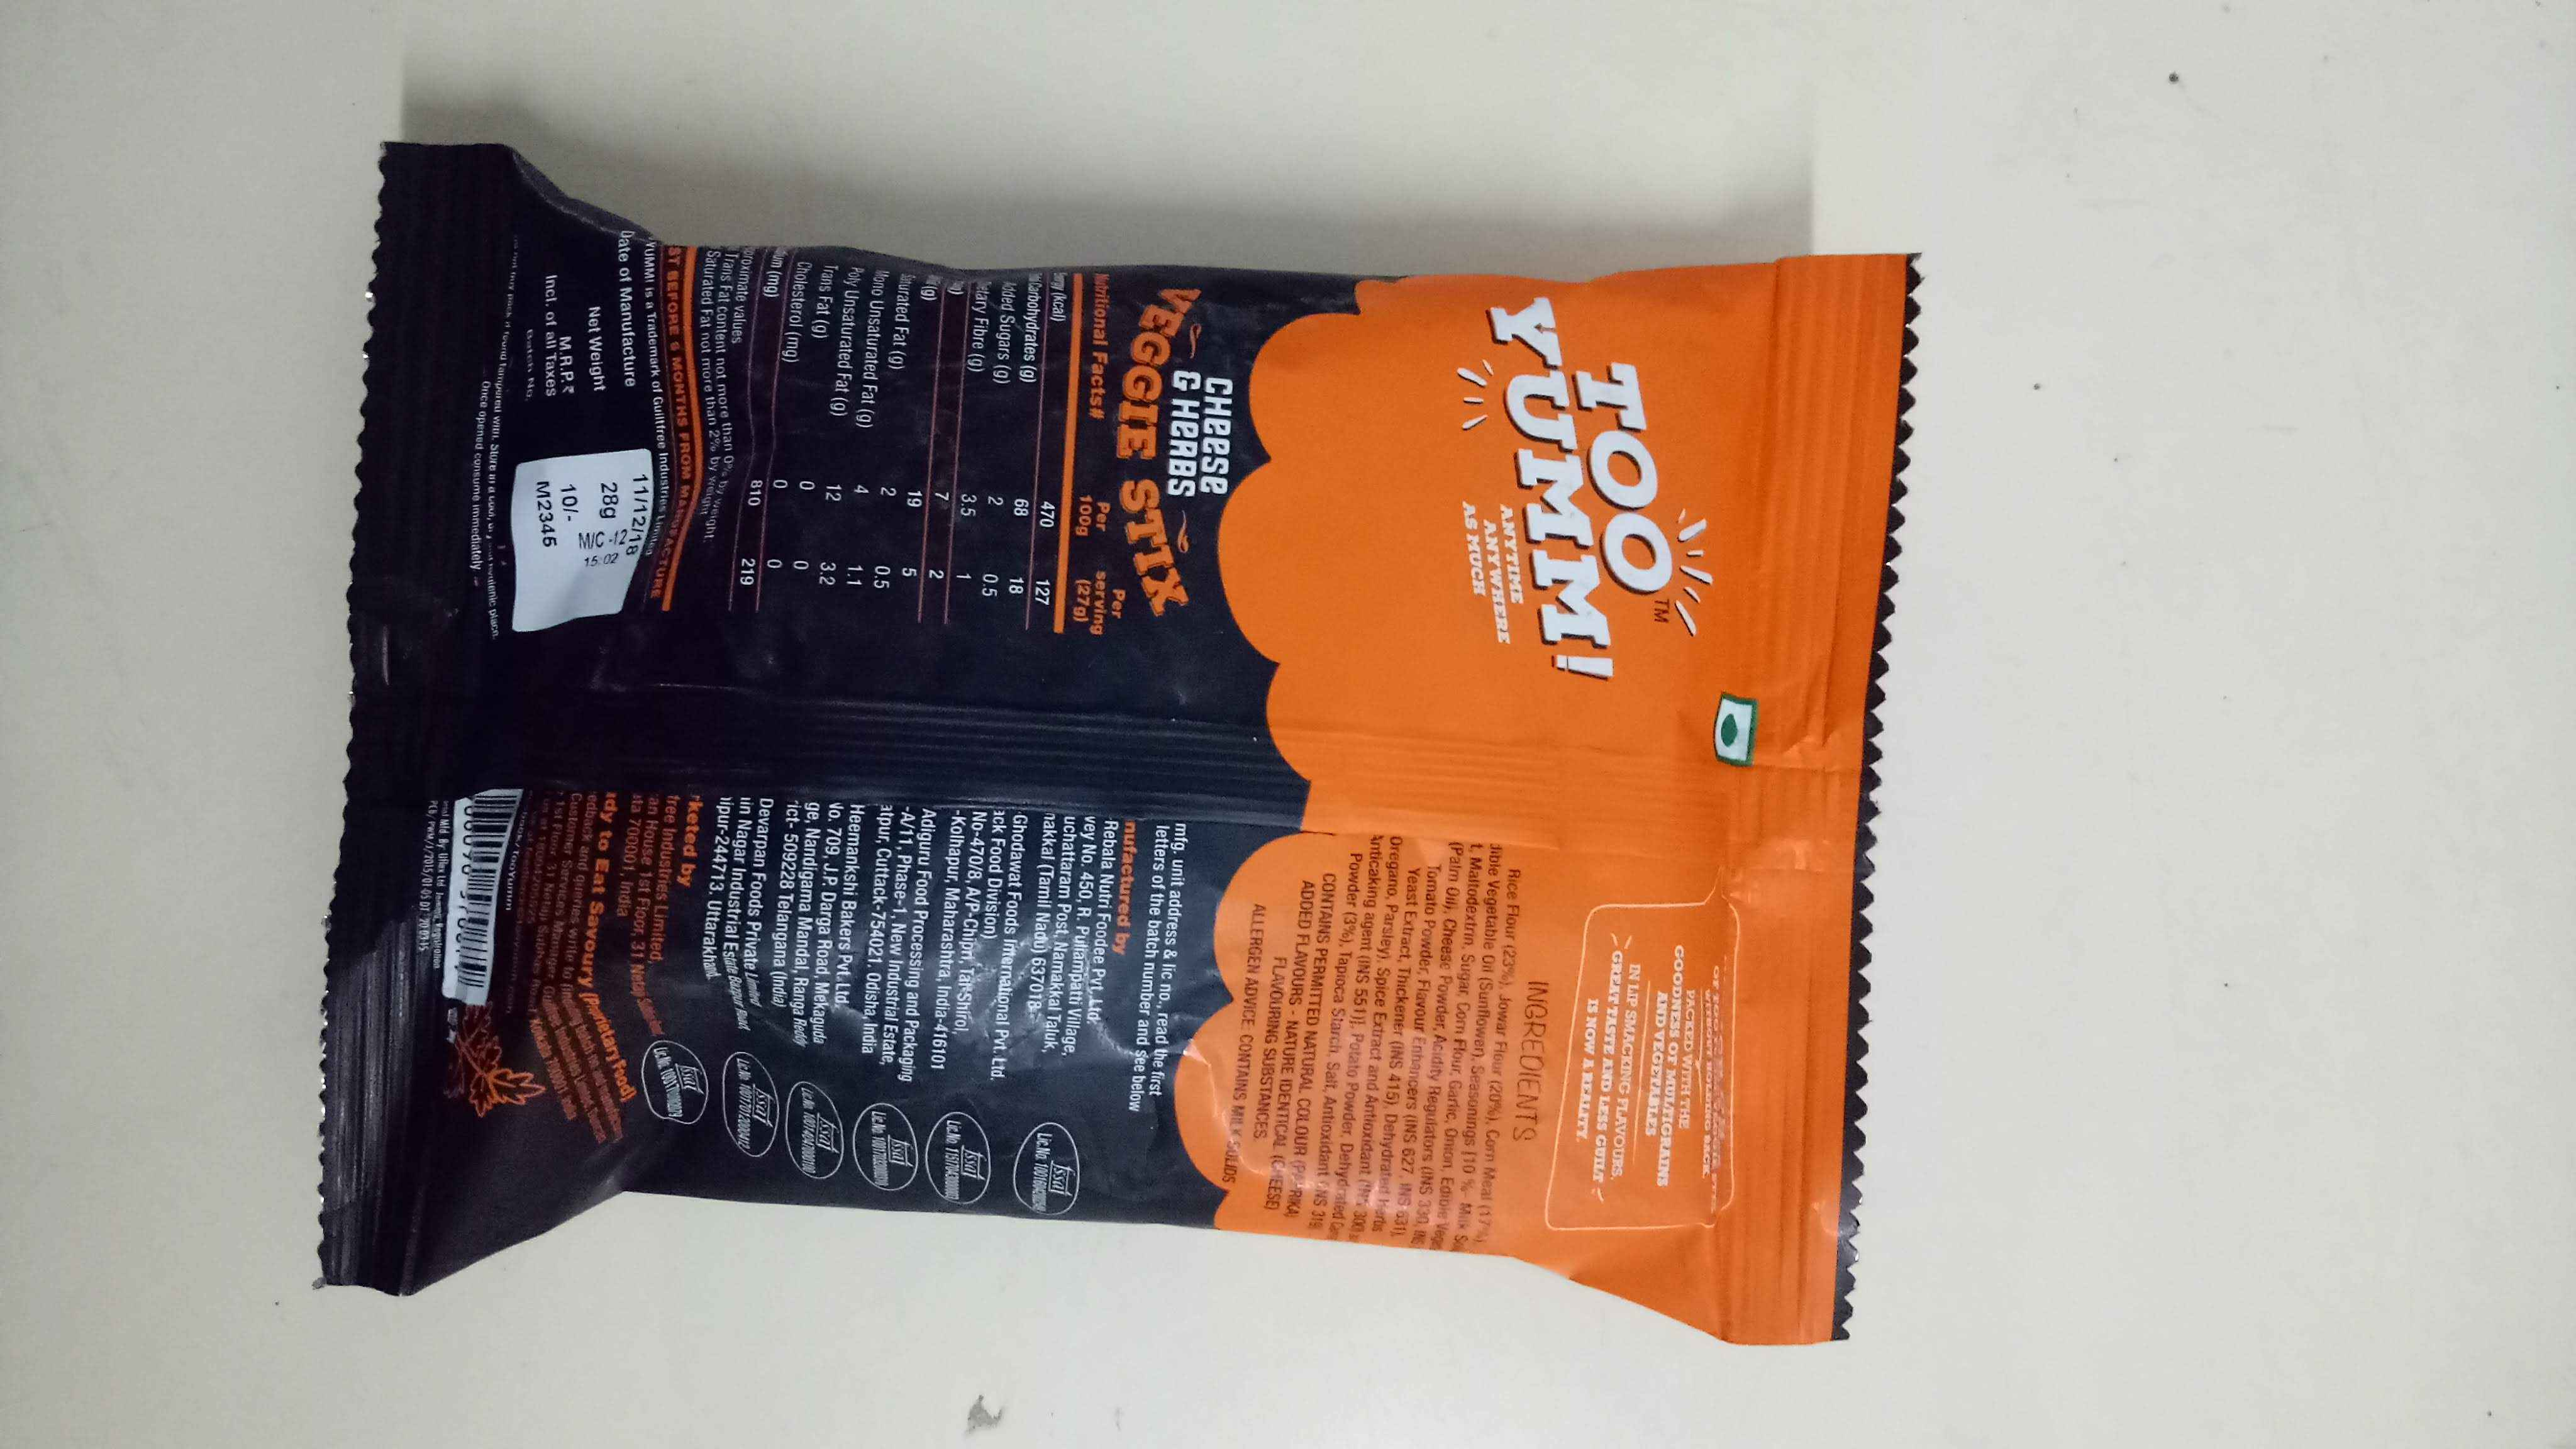tooyumm: (1430, 295, 1720, 697)
